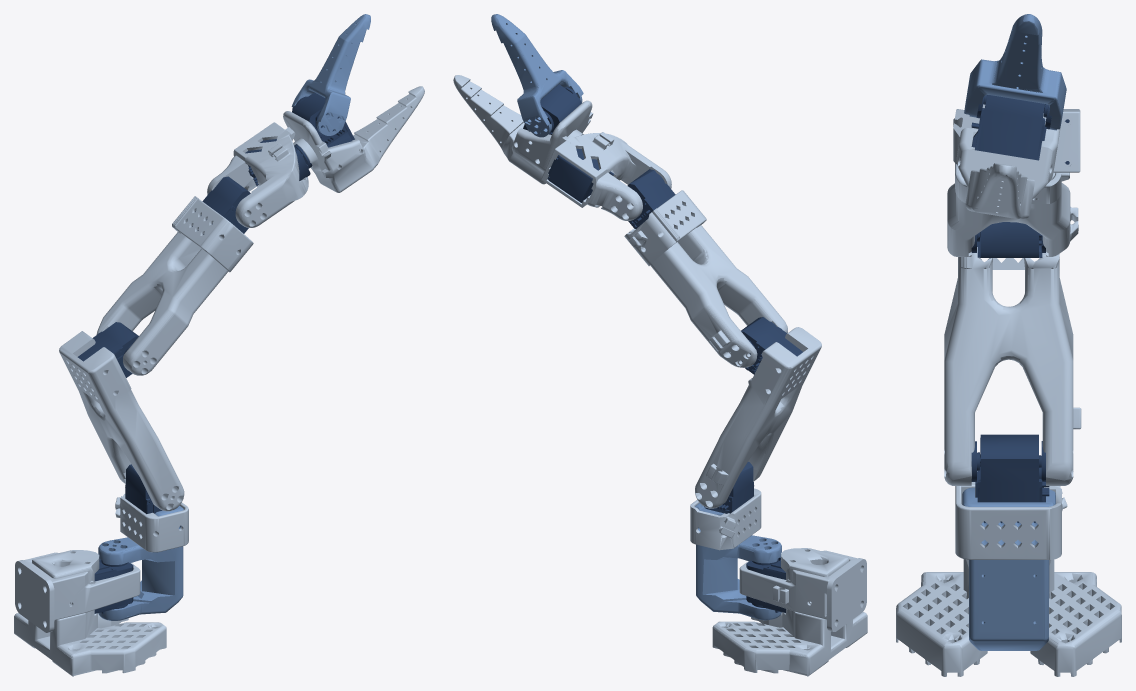
The picture shows the model from 3 angles, left to right: view 1: azimuth 30°, elevation 25°; view 2: azimuth 150°, elevation 25°; view 3: azimuth 270°, elevation 25°; orthographic projection. The views are drawn at different scales.
Parts seen in each view (by area): view 1: upper_arm_so101_v1, under_arm_so101_v1, base_so101_v2, wrist_roll_pitch_so101_v2, wrist_roll_follower_so101_v1, sts3215_03a_v1 (×5), rotation_pitch_so101_v1, moving_jaw_so101_v1, base_motor_holder_so101_v1, motor_holder_so101_wrist_v1, motor_holder_so101_base_v1, waveshare_mounting_plate_so101_v2; view 2: upper_arm_so101_v1, under_arm_so101_v1, base_so101_v2, sts3215_03a_v1 (×5), wrist_roll_pitch_so101_v2, wrist_roll_follower_so101_v1, rotation_pitch_so101_v1, moving_jaw_so101_v1, base_motor_holder_so101_v1, motor_holder_so101_wrist_v1, motor_holder_so101_base_v1, waveshare_mounting_plate_so101_v2 (+1 smaller); view 3: upper_arm_so101_v1, base_so101_v2, sts3215_03a_v1 (×3), rotation_pitch_so101_v1, wrist_roll_follower_so101_v1, motor_holder_so101_base_v1, moving_jaw_so101_v1, under_arm_so101_v1, wrist_roll_pitch_so101_v2, motor_holder_so101_wrist_v1.
Boxes of the visible parts, x1,y1,x2,y2 form: upper_arm_so101_v1: (59, 331, 184, 511); under_arm_so101_v1: (96, 232, 238, 375); base_so101_v2: (14, 550, 166, 676); wrist_roll_pitch_so101_v2: (207, 122, 308, 227); wrist_roll_follower_so101_v1: (283, 86, 424, 192); sts3215_03a_v1 (×5): (77, 93, 354, 613); rotation_pitch_so101_v1: (98, 505, 183, 620); moving_jaw_so101_v1: (291, 14, 370, 135); base_motor_holder_so101_v1: (24, 552, 140, 620); motor_holder_so101_wrist_v1: (172, 196, 253, 272); motor_holder_so101_base_v1: (115, 494, 188, 552); waveshare_mounting_plate_so101_v2: (15, 560, 54, 632); upper_arm_so101_v1: (695, 327, 821, 508); under_arm_so101_v1: (629, 225, 787, 367); base_so101_v2: (712, 548, 867, 676); sts3215_03a_v1 (×5): (523, 84, 802, 612); wrist_roll_pitch_so101_v2: (541, 132, 671, 220); wrist_roll_follower_so101_v1: (453, 75, 593, 184); rotation_pitch_so101_v1: (695, 503, 781, 620); moving_jaw_so101_v1: (491, 14, 583, 137); base_motor_holder_so101_v1: (739, 550, 857, 619); motor_holder_so101_wrist_v1: (624, 190, 706, 265); motor_holder_so101_base_v1: (690, 488, 761, 550); waveshare_mounting_plate_so101_v2: (826, 558, 866, 631); upper_arm_so101_v1: (944, 247, 1081, 485); base_so101_v2: (896, 559, 1121, 676); sts3215_03a_v1 (×3): (971, 95, 1051, 522); rotation_pitch_so101_v1: (962, 487, 1055, 650); wrist_roll_follower_so101_v1: (953, 104, 1060, 219); motor_holder_so101_base_v1: (955, 482, 1067, 559); moving_jaw_so101_v1: (964, 14, 1066, 130); under_arm_so101_v1: (947, 172, 1078, 256); wrist_roll_pitch_so101_v2: (953, 109, 1080, 172); motor_holder_so101_wrist_v1: (955, 163, 1069, 203).
Bounding box in the file's own units: 0.3299 × 0.4487 × 0.1109.
